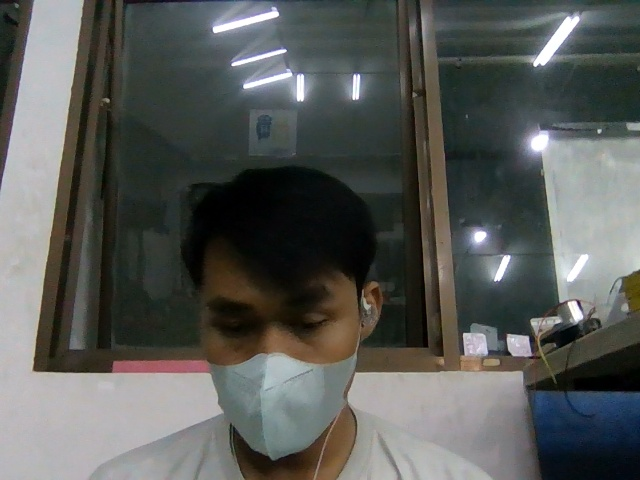mask_on: (206, 352, 357, 460)
